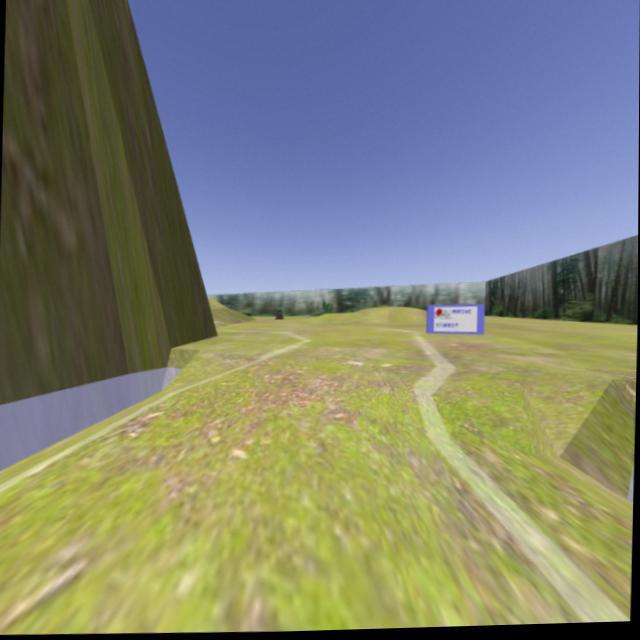clueboard: (424, 298, 488, 341)
